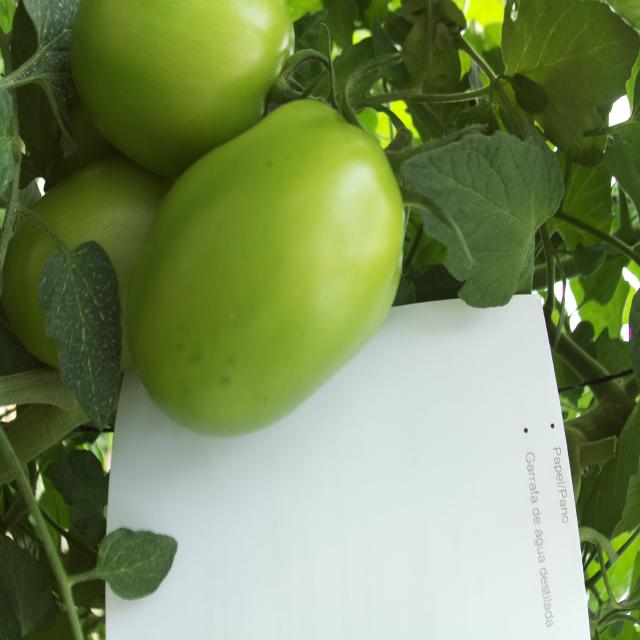yesil: (9, 0, 426, 429)
